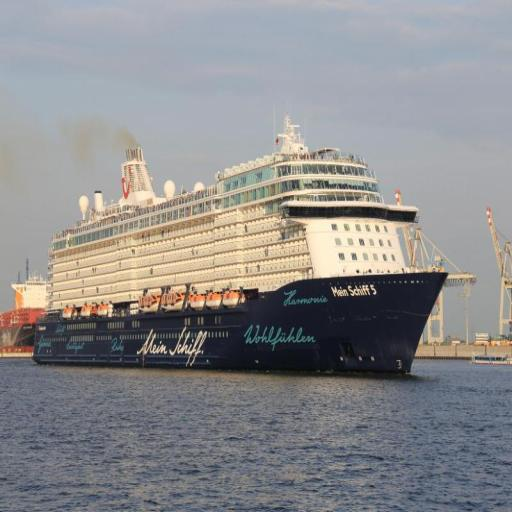cruises: (31, 114, 450, 387)
